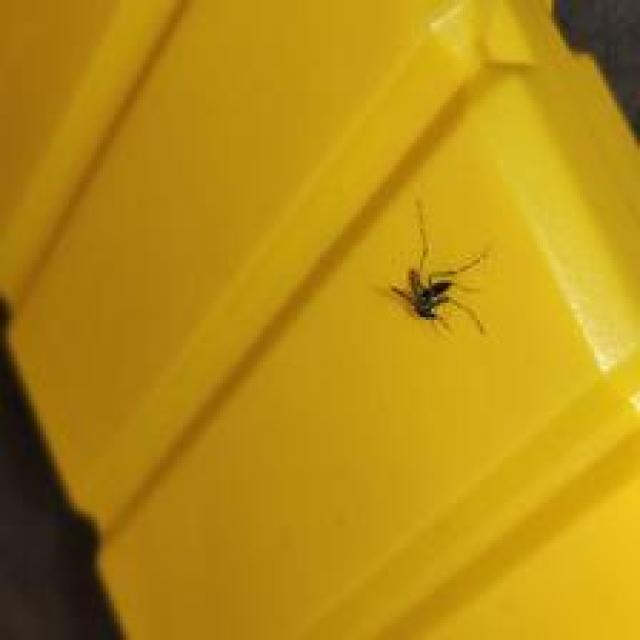Aedes albopictus: (387, 197, 490, 337)
